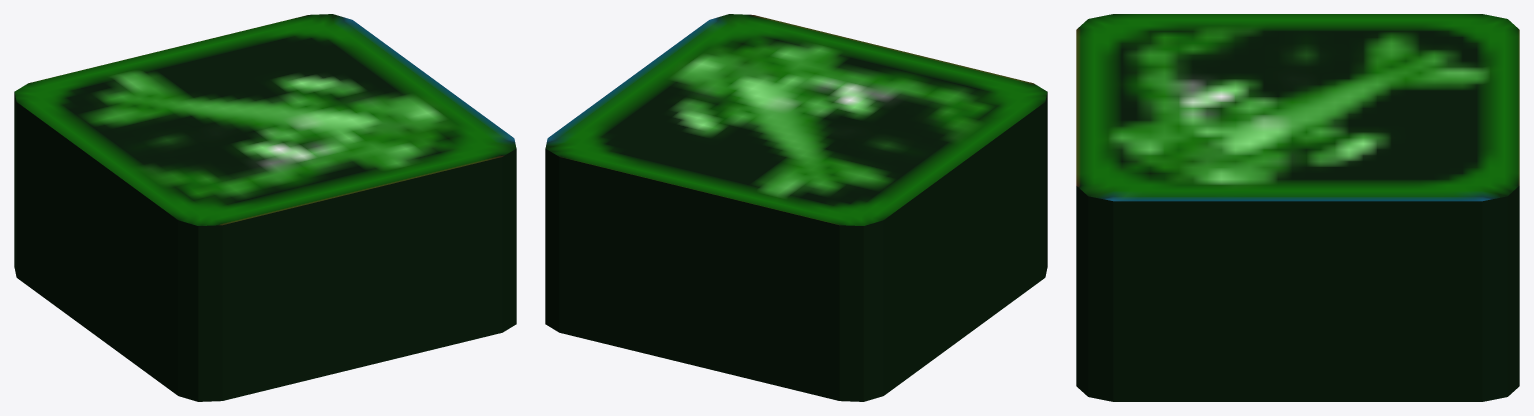
Rendered from icon_rescue.obj.
3 views of the same model, side by side, from view 1: azimuth 30°, elevation 25°; view 2: azimuth 150°, elevation 25°; view 3: azimuth 270°, elevation 25° (orthographic). The views are drawn at different scales.
Parts seen in each view (by area): view 1: Icon-StilettoCras.000_Plane.022; view 2: Icon-StilettoCras.000_Plane.022; view 3: Icon-StilettoCras.000_Plane.022.
Boxes of the visible parts, x1,y1,x2,y2 form: Icon-StilettoCras.000_Plane.022: (14, 14, 516, 401); Icon-StilettoCras.000_Plane.022: (545, 14, 1047, 401); Icon-StilettoCras.000_Plane.022: (1076, 14, 1519, 401).
Bounding box in the file's own units: 2 × 1 × 2.
2 materials, 2 textured.
